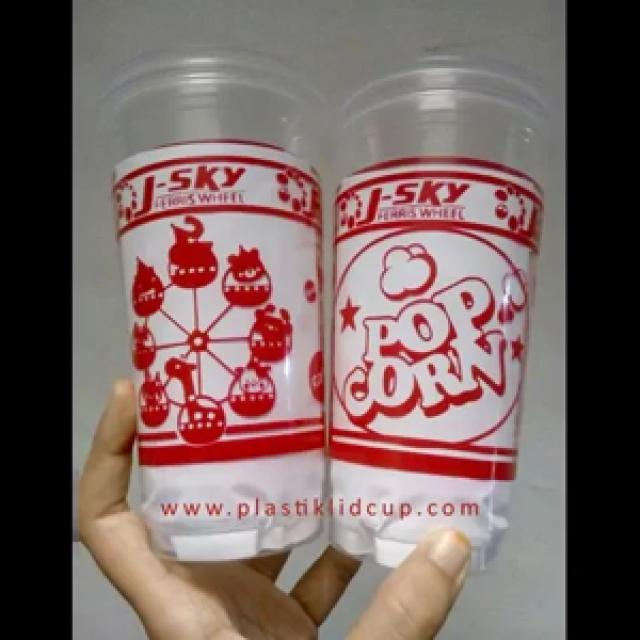plastic cup: (85, 43, 328, 576), (331, 45, 561, 576)
